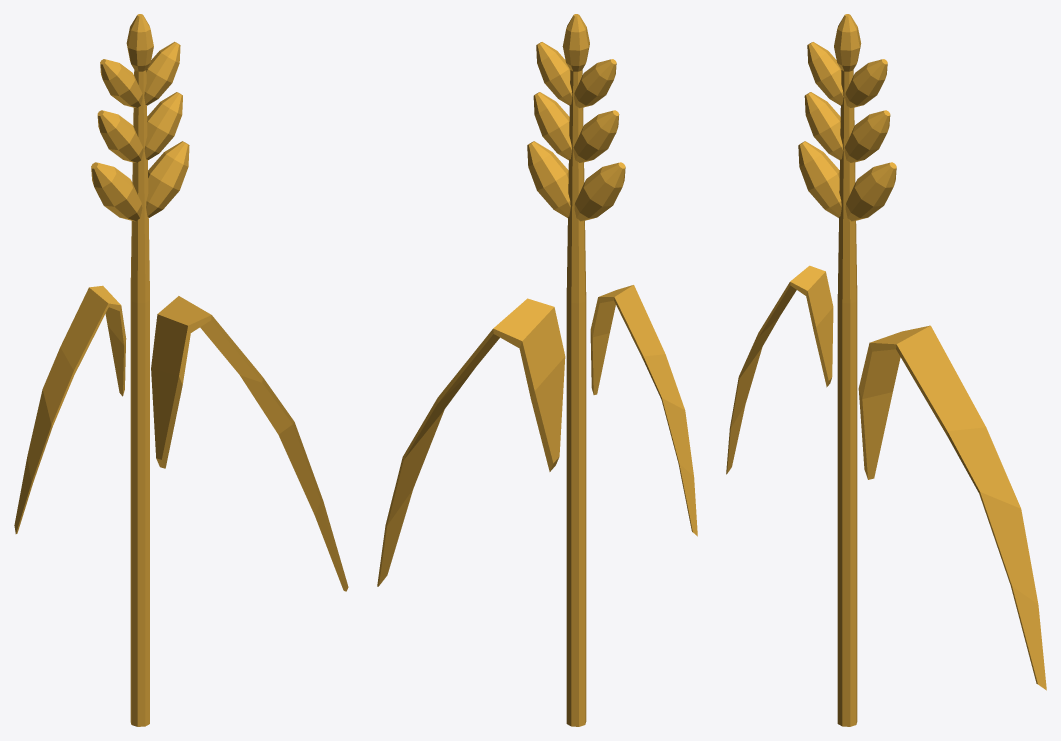
Rendered from Wheat.fbx.
The picture shows the model from 3 angles, left to right: view 1: azimuth 30°, elevation 25°; view 2: azimuth 150°, elevation 25°; view 3: azimuth 330°, elevation 25°; orthographic projection.
Parts seen in each view (by area): view 1: Wheat Stalk, Wheat Head, Wheat_Leaf_1, Wheat_Leaf_2; view 2: Wheat Stalk, Wheat Head, Wheat_Leaf_1, Wheat_Leaf_2; view 3: Wheat_Leaf_1, Wheat Stalk, Wheat Head, Wheat_Leaf_2.
Part boxes in pixels (x1=…): Wheat Stalk: x1=130, y1=70, x2=149, y2=726; Wheat Head: x1=91, y1=14, x2=189, y2=221; Wheat_Leaf_1: x1=151, y1=296, x2=348, y2=591; Wheat_Leaf_2: x1=14, y1=285, x2=126, y2=533; Wheat Stalk: x1=566, y1=70, x2=586, y2=726; Wheat Head: x1=527, y1=14, x2=625, y2=221; Wheat_Leaf_1: x1=377, y1=298, x2=565, y2=586; Wheat_Leaf_2: x1=590, y1=285, x2=697, y2=536; Wheat_Leaf_1: x1=858, y1=325, x2=1046, y2=690; Wheat Stalk: x1=837, y1=70, x2=857, y2=726; Wheat Head: x1=798, y1=14, x2=896, y2=221; Wheat_Leaf_2: x1=726, y1=265, x2=833, y2=474.
Size of the model in its own units: 372 by 773 by 71.79.
